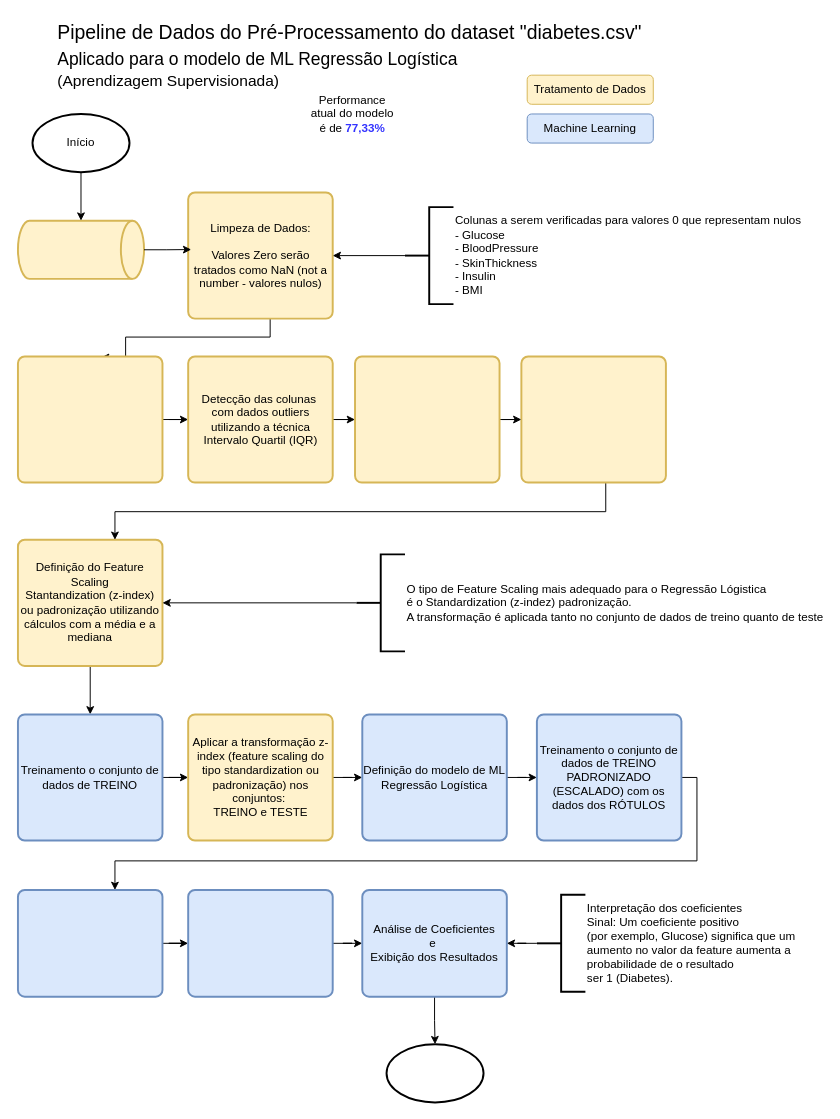
Some shapes in this 840 by 1119 pixel diagram are drawn without their labels. The shapes that lost their labels are listed below. From the top down, each one's box as (x1, y1, x2, y2) in pixels, then its label:
(16, 219, 145, 279): diabetes.csv
(16, 355, 163, 483): Subtituir os NaN pela mediana da respectiva coluna
(354, 355, 500, 483): Eliminação dos outliers das coluns dectadas
(520, 355, 666, 483): Separação dos Dados em dois conjuntos de Treino (80%) e Teste (20%)
(16, 889, 163, 997): Predição com o conjunto de TESTES PADRONIZADO ou ESCALADO
(187, 889, 333, 997): Avaliar Performance com o médoto da Acurácia "ACCURARY"
(385, 1043, 484, 1103): Fim
